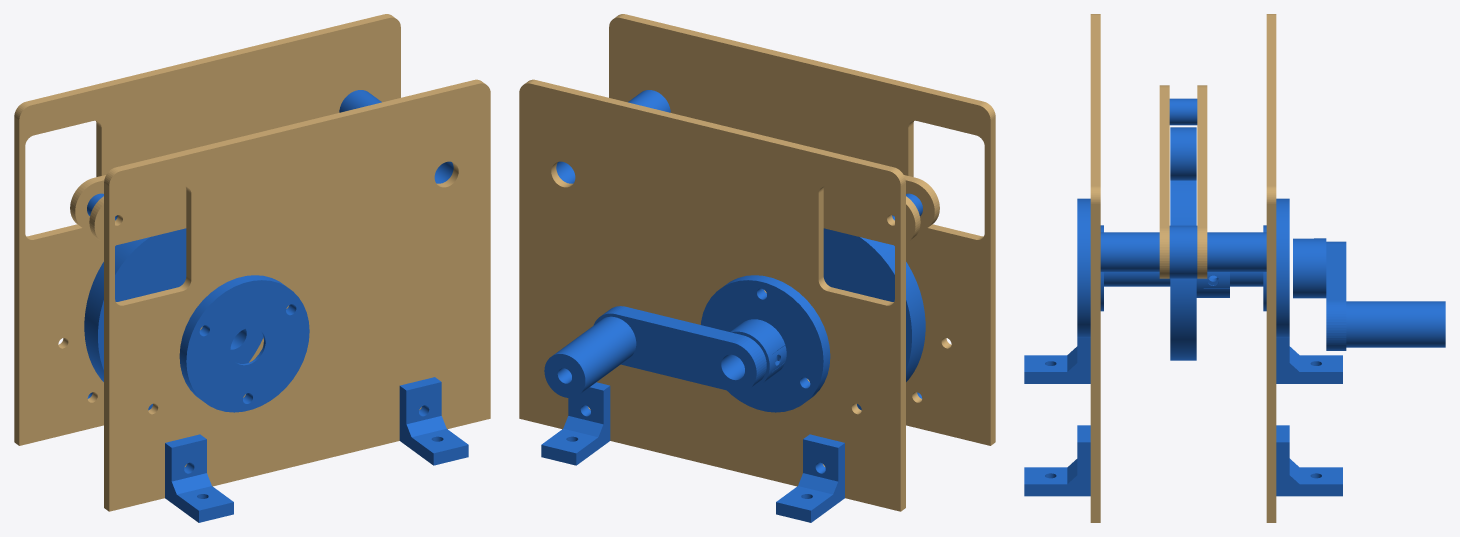
Rendered from m04_baugruppe.glb.
3 views of the same model, side by side, from view 1: azimuth 30°, elevation 25°; view 2: azimuth 150°, elevation 25°; view 3: azimuth 270°, elevation 25° (orthographic). The views are drawn at different scales.
Parts seen in each view (by area): view 1: M04-P01_2, M04-P01_1, M04-P02_2, M04-P03_1, M04-P12_4, M04-P12_2, M04-P04_2, M04-P04_1, M04-P09_1; view 2: M04-P01_1, M04-P01_2, M04-P13_1, M04-P02_1, M04-P03_1, M04-P14_1, M04-P12_1, M04-P12_3, M04-P04_1, M04-P04_2, M04-P09_2; view 3: M04-P01_1, M04-P01_2, M04-P14_1, M04-P13_1, M04-P03_1, M04-P12_3, M04-P12_4, M04-P09_1, M04-P09_2, M04-P12_1, M04-P12_2, M04-P02_1 (+8 smaller).
Part boxes in pixels (<box>): M04-P01_2: <box>104,79,490,511</box>; M04-P01_1: <box>14,14,400,445</box>; M04-P02_2: <box>179,275,309,412</box>; M04-P03_1: <box>84,228,263,410</box>; M04-P12_4: <box>399,377,468,465</box>; M04-P12_2: <box>165,434,233,522</box>; M04-P04_2: <box>89,186,186,245</box>; M04-P04_1: <box>70,175,105,231</box>; M04-P09_1: <box>339,90,381,112</box>; M04-P01_1: <box>519,79,905,511</box>; M04-P01_2: <box>609,14,995,445</box>; M04-P13_1: <box>593,306,786,392</box>; M04-P02_1: <box>701,275,830,412</box>; M04-P03_1: <box>777,228,925,410</box>; M04-P14_1: <box>544,316,636,397</box>; M04-P12_1: <box>776,434,844,522</box>; M04-P12_3: <box>541,382,610,465</box>; M04-P04_1: <box>823,186,920,245</box>; M04-P04_2: <box>904,175,939,231</box>; M04-P09_2: <box>628,90,670,112</box>; M04-P01_1: <box>1266,14,1276,522</box>; M04-P01_2: <box>1090,14,1100,522</box>; M04-P14_1: <box>1346,301,1445,347</box>; M04-P13_1: <box>1293,238,1346,350</box>; M04-P03_1: <box>1170,180,1229,360</box>; M04-P12_3: <box>1276,425,1342,496</box>; M04-P12_4: <box>1024,425,1090,496</box>; M04-P09_1: <box>1207,232,1266,271</box>; M04-P09_2: <box>1100,232,1159,271</box>; M04-P12_1: <box>1276,338,1342,383</box>; M04-P12_2: <box>1024,338,1090,383</box>; M04-P02_1: <box>1263,198,1289,337</box>.
Size of the model in its own units: 130 by 110 by 127.
